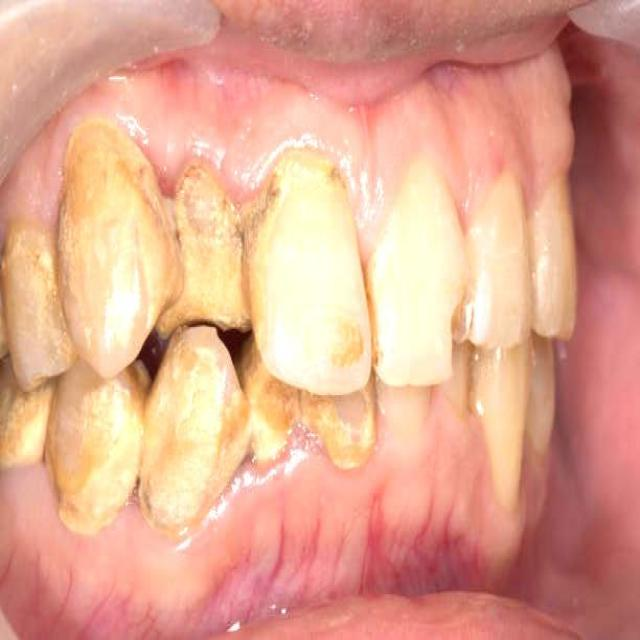caries: (437, 279, 484, 384)
